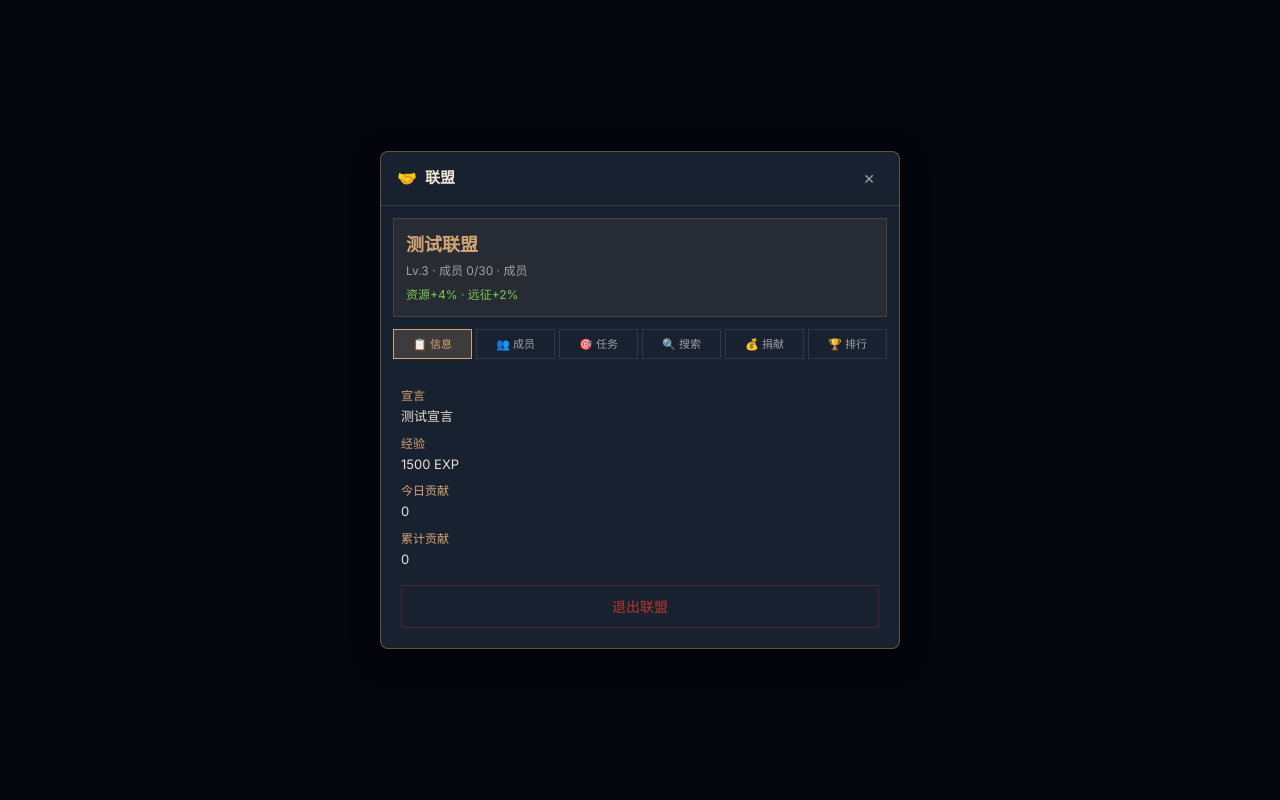
Test: F11 联盟系统 P1 修复 › P1-04 联盟排行榜Tab › 无成员时应显示空状态
Step 1. Click the button with test id "alliance-panel-tab-ranking" → click(848, 344), box [808,329,887,359]
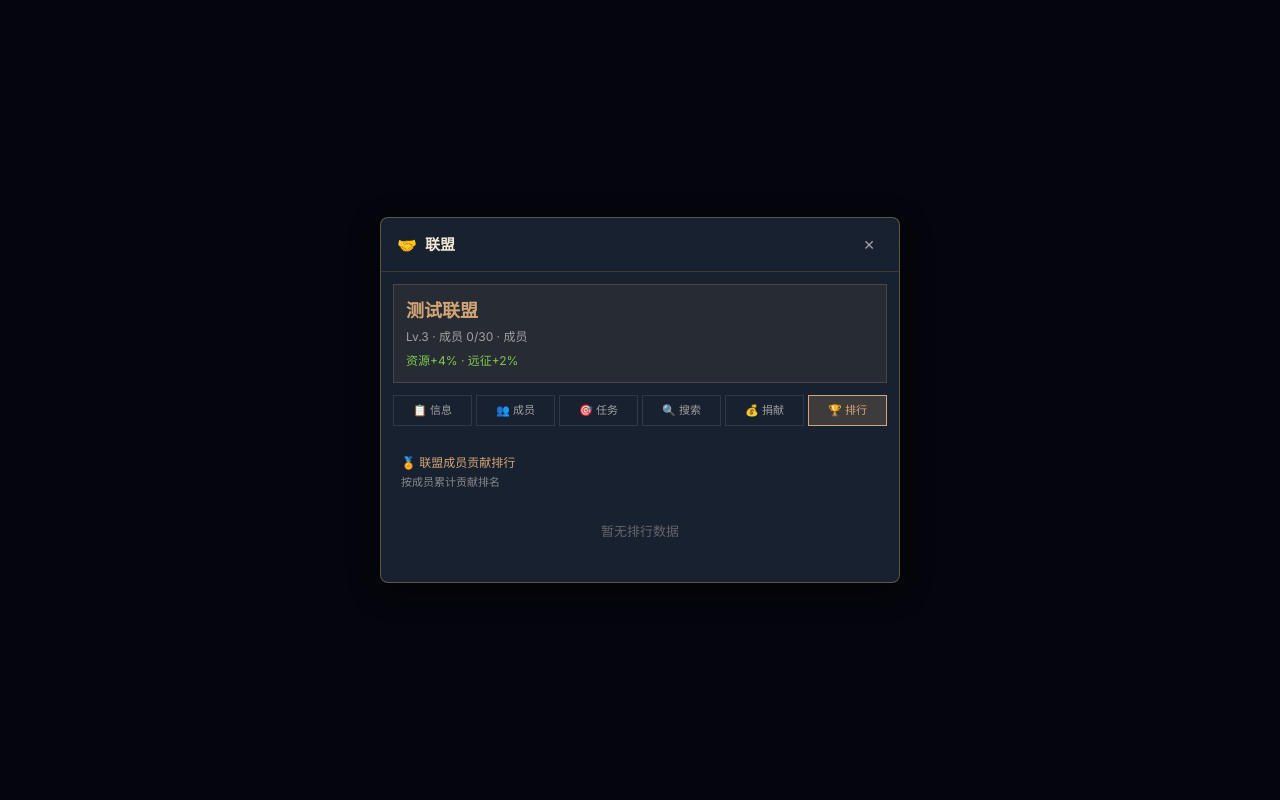
Expected: the text "暂无排行数据" is shown, [601,523,679,539]
